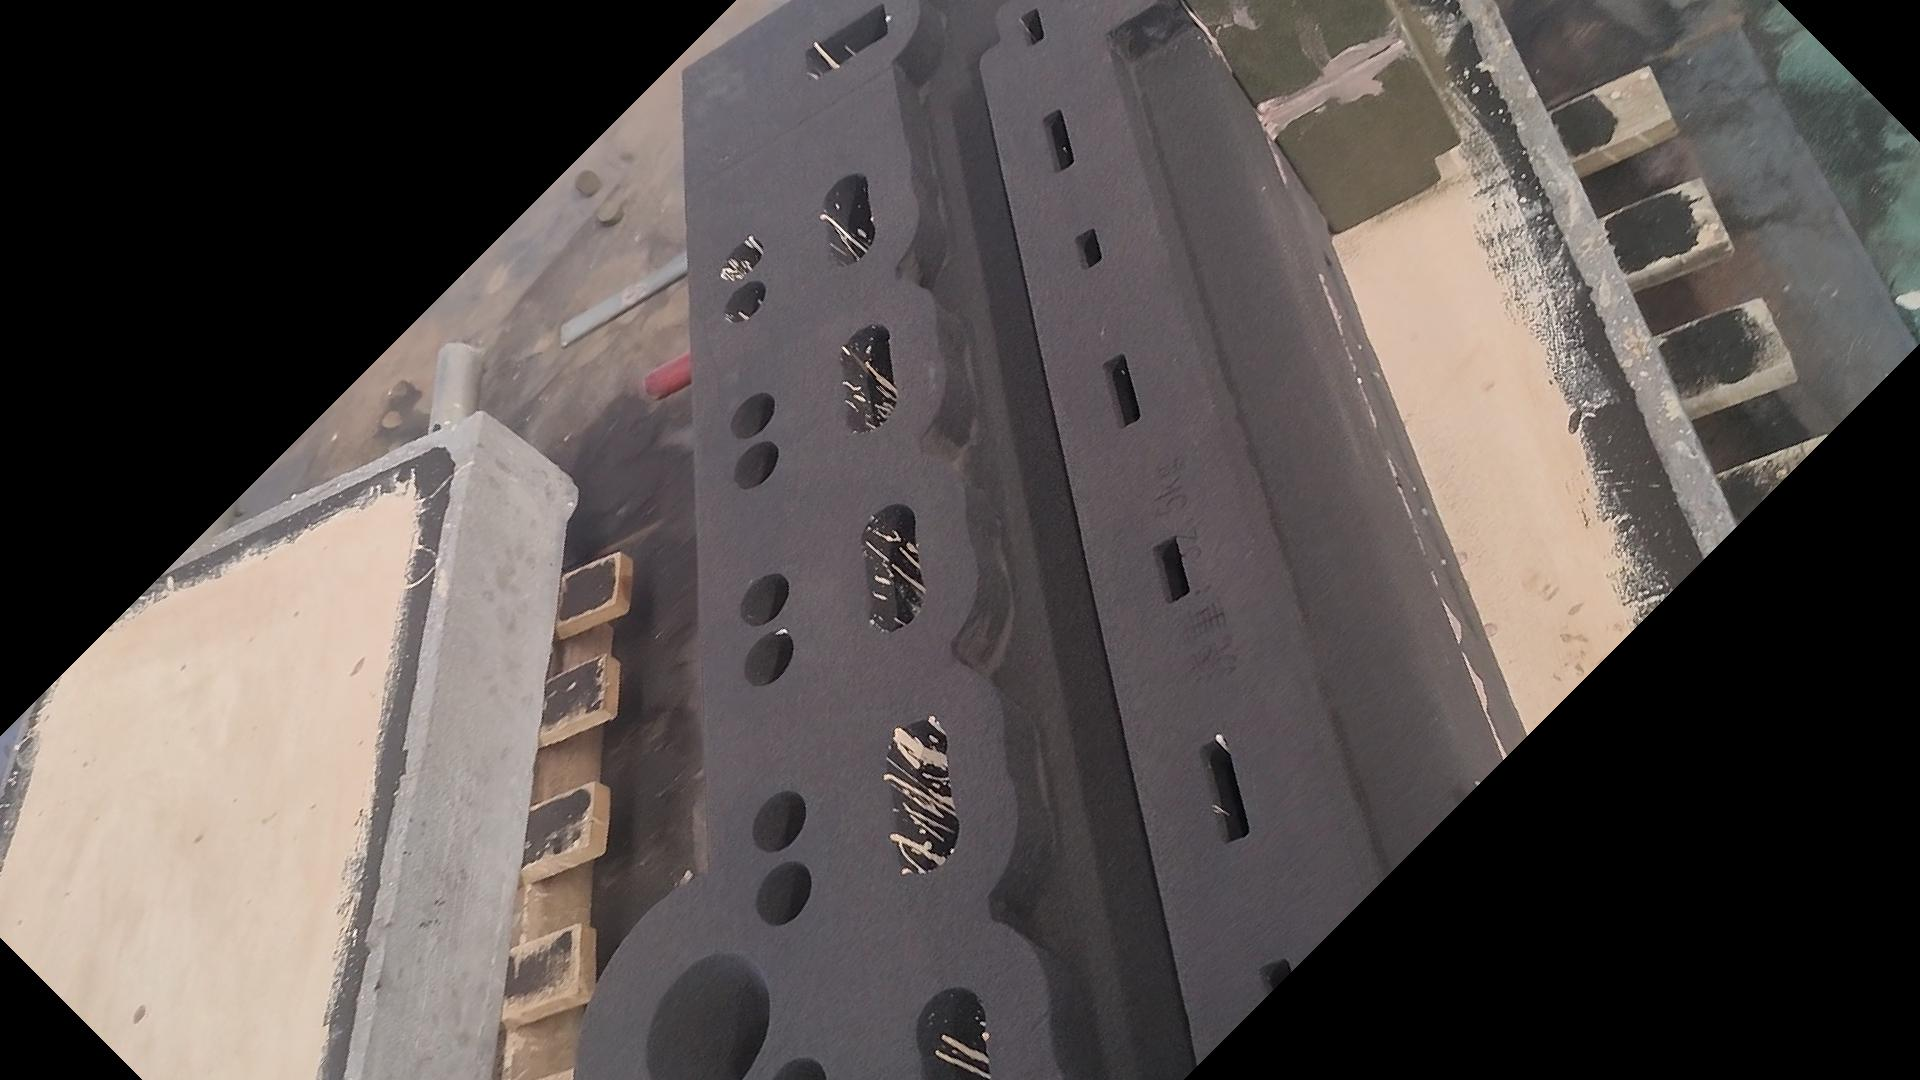pouring hole: (642, 951, 770, 1080)
